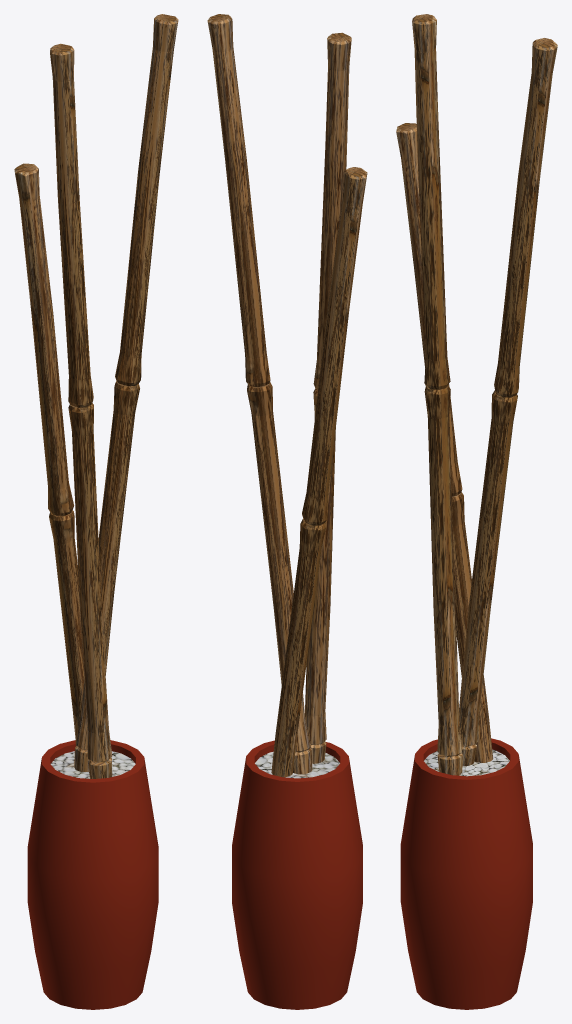
The model's file is Bamboo.FBX.
The picture shows the model from 3 angles, left to right: view 1: azimuth 30°, elevation 25°; view 2: azimuth 150°, elevation 25°; view 3: azimuth 330°, elevation 25°; orthographic projection.
Parts seen in each view (by area): view 1: Bamboo; view 2: Bamboo; view 3: Bamboo.
Part boxes in pixels (x1=…): Bamboo: x1=14, y1=14, x2=178, y2=1009; Bamboo: x1=207, y1=14, x2=367, y2=1009; Bamboo: x1=396, y1=14, x2=557, y2=1009.
Size of the model in its own units: 32.16 by 184 by 22.91.
2 materials, 2 textured.
